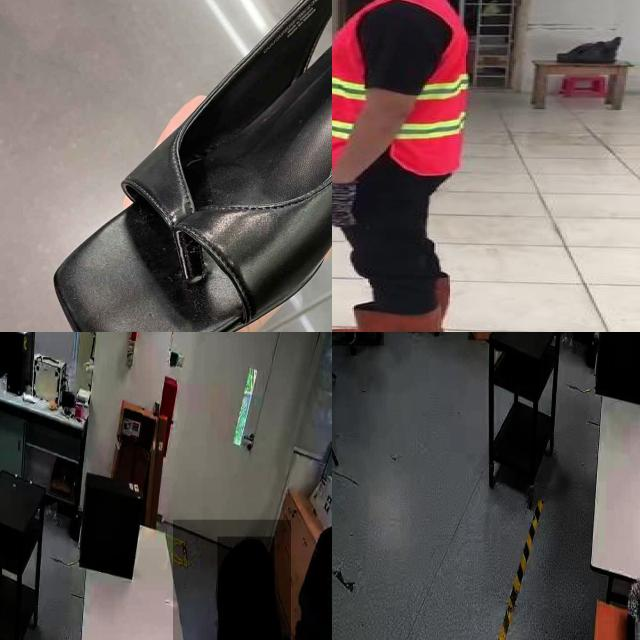Sandals: (0, 0, 332, 332)
boots: (332, 305, 435, 332)
hand_glove: (332, 179, 365, 228)
head_nohelmet: (217, 536, 275, 584)
person: (332, 0, 483, 332), (172, 519, 291, 640)
vest: (393, 0, 485, 177), (332, 5, 371, 176)
